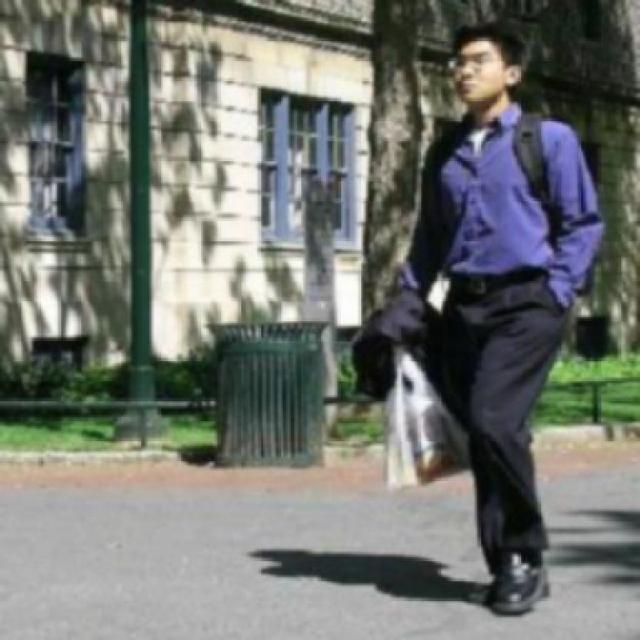Person: (384, 24, 605, 616)
